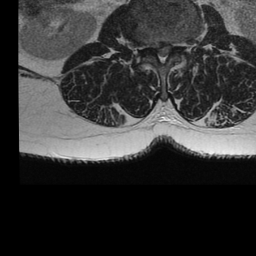CCS_stenosis: (159, 38, 166, 69)
LFS_stenosis: (173, 29, 181, 54)
LLS_stenosis: (166, 35, 173, 61)
RFS_severe_stenosis: (143, 33, 151, 56)
RLS_severe_stenosis: (151, 34, 158, 61)
